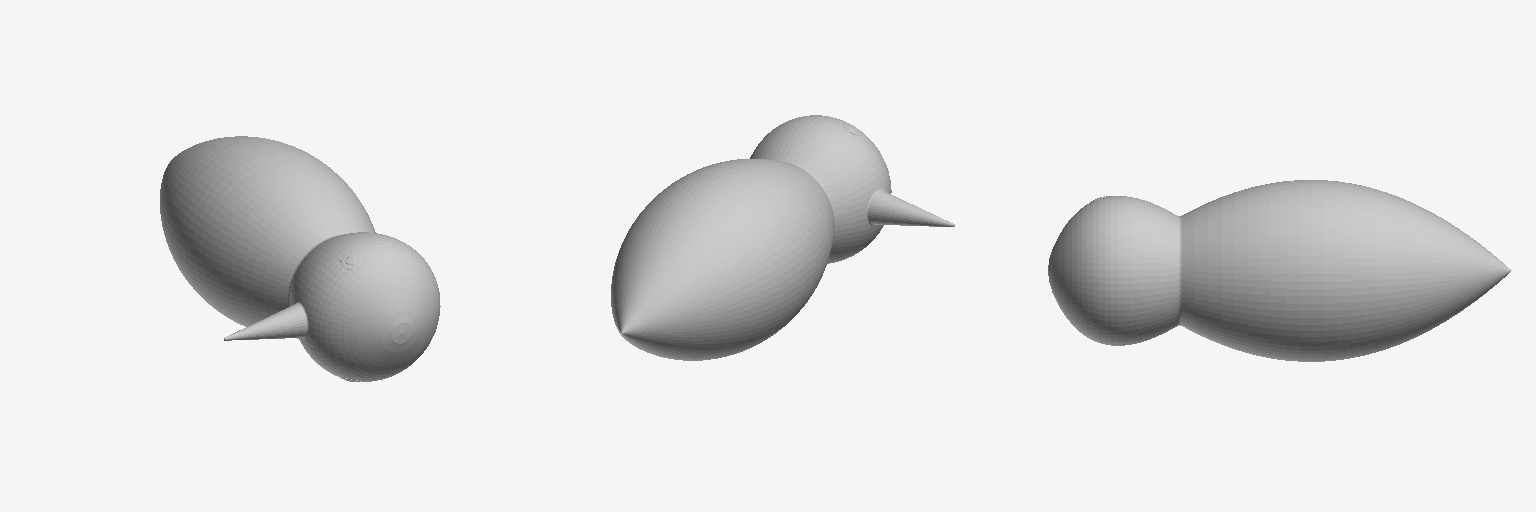
The model's file is specht.obj.
The picture shows the model from 3 angles: view 1: azimuth 30°, elevation 25°; view 2: azimuth 150°, elevation 25°; view 3: azimuth 270°, elevation 25°; orthographic projection.
Bounding box in the file's own units: 1.9 × 1.37 × 3.5.